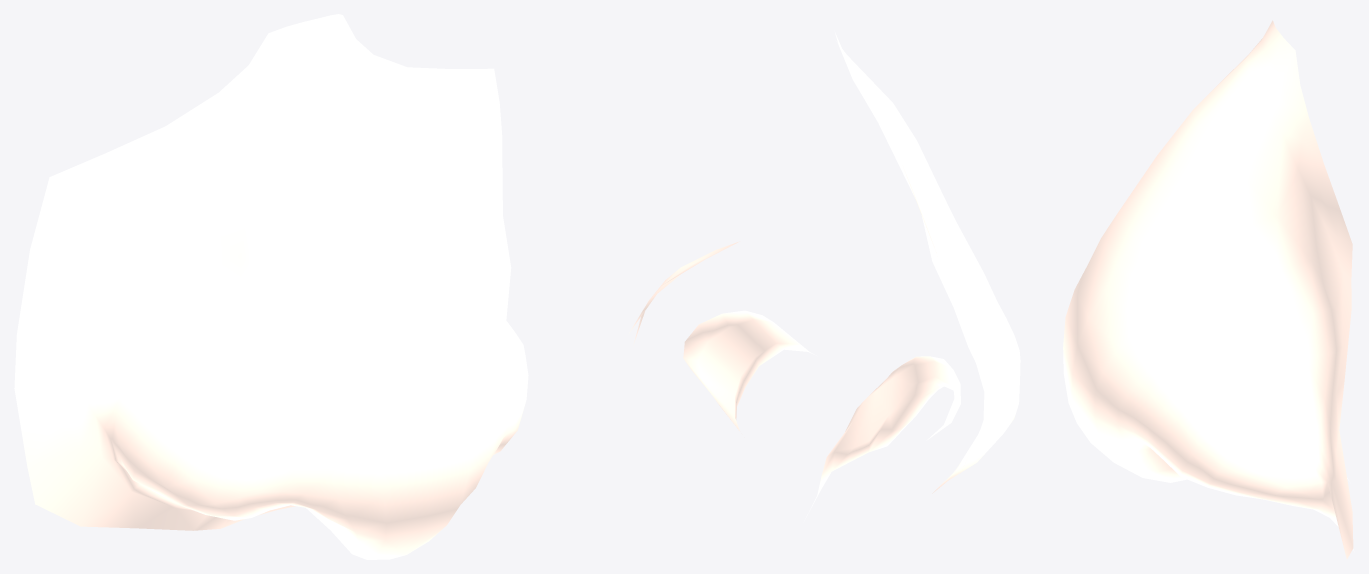
Rendered from nose_04.glb.
3 renders of one model, left to right at view 1: azimuth 30°, elevation 25°; view 2: azimuth 150°, elevation 25°; view 3: azimuth 270°, elevation 25°, orthographic. The views are drawn at different scales.
Visible parts, largest first — view 1: nose_04; view 2: nose_04; view 3: nose_04.
Boxes of the visible parts, x1,y1,x2,y2 form: nose_04: (14, 14, 528, 559); nose_04: (629, 32, 1020, 520); nose_04: (1063, 20, 1354, 559).
Size of the model in its own units: 0.00098 by 0.000995 by 0.000539.
